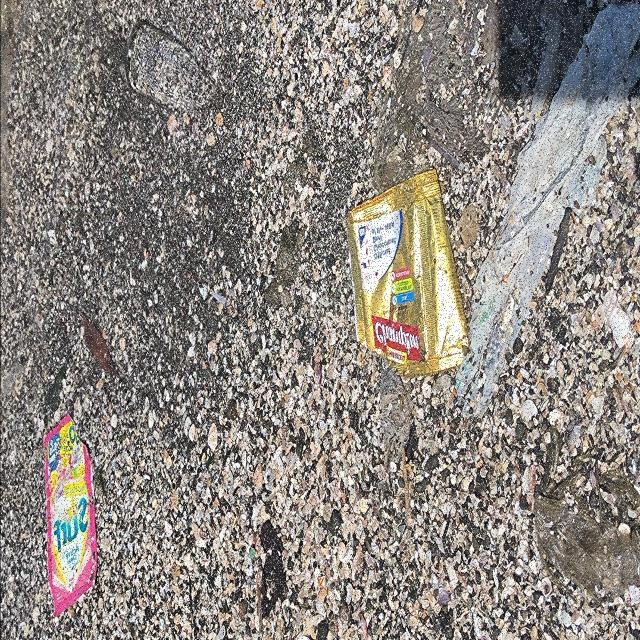plastic_waste: (344, 169, 471, 377), (45, 416, 98, 618)
